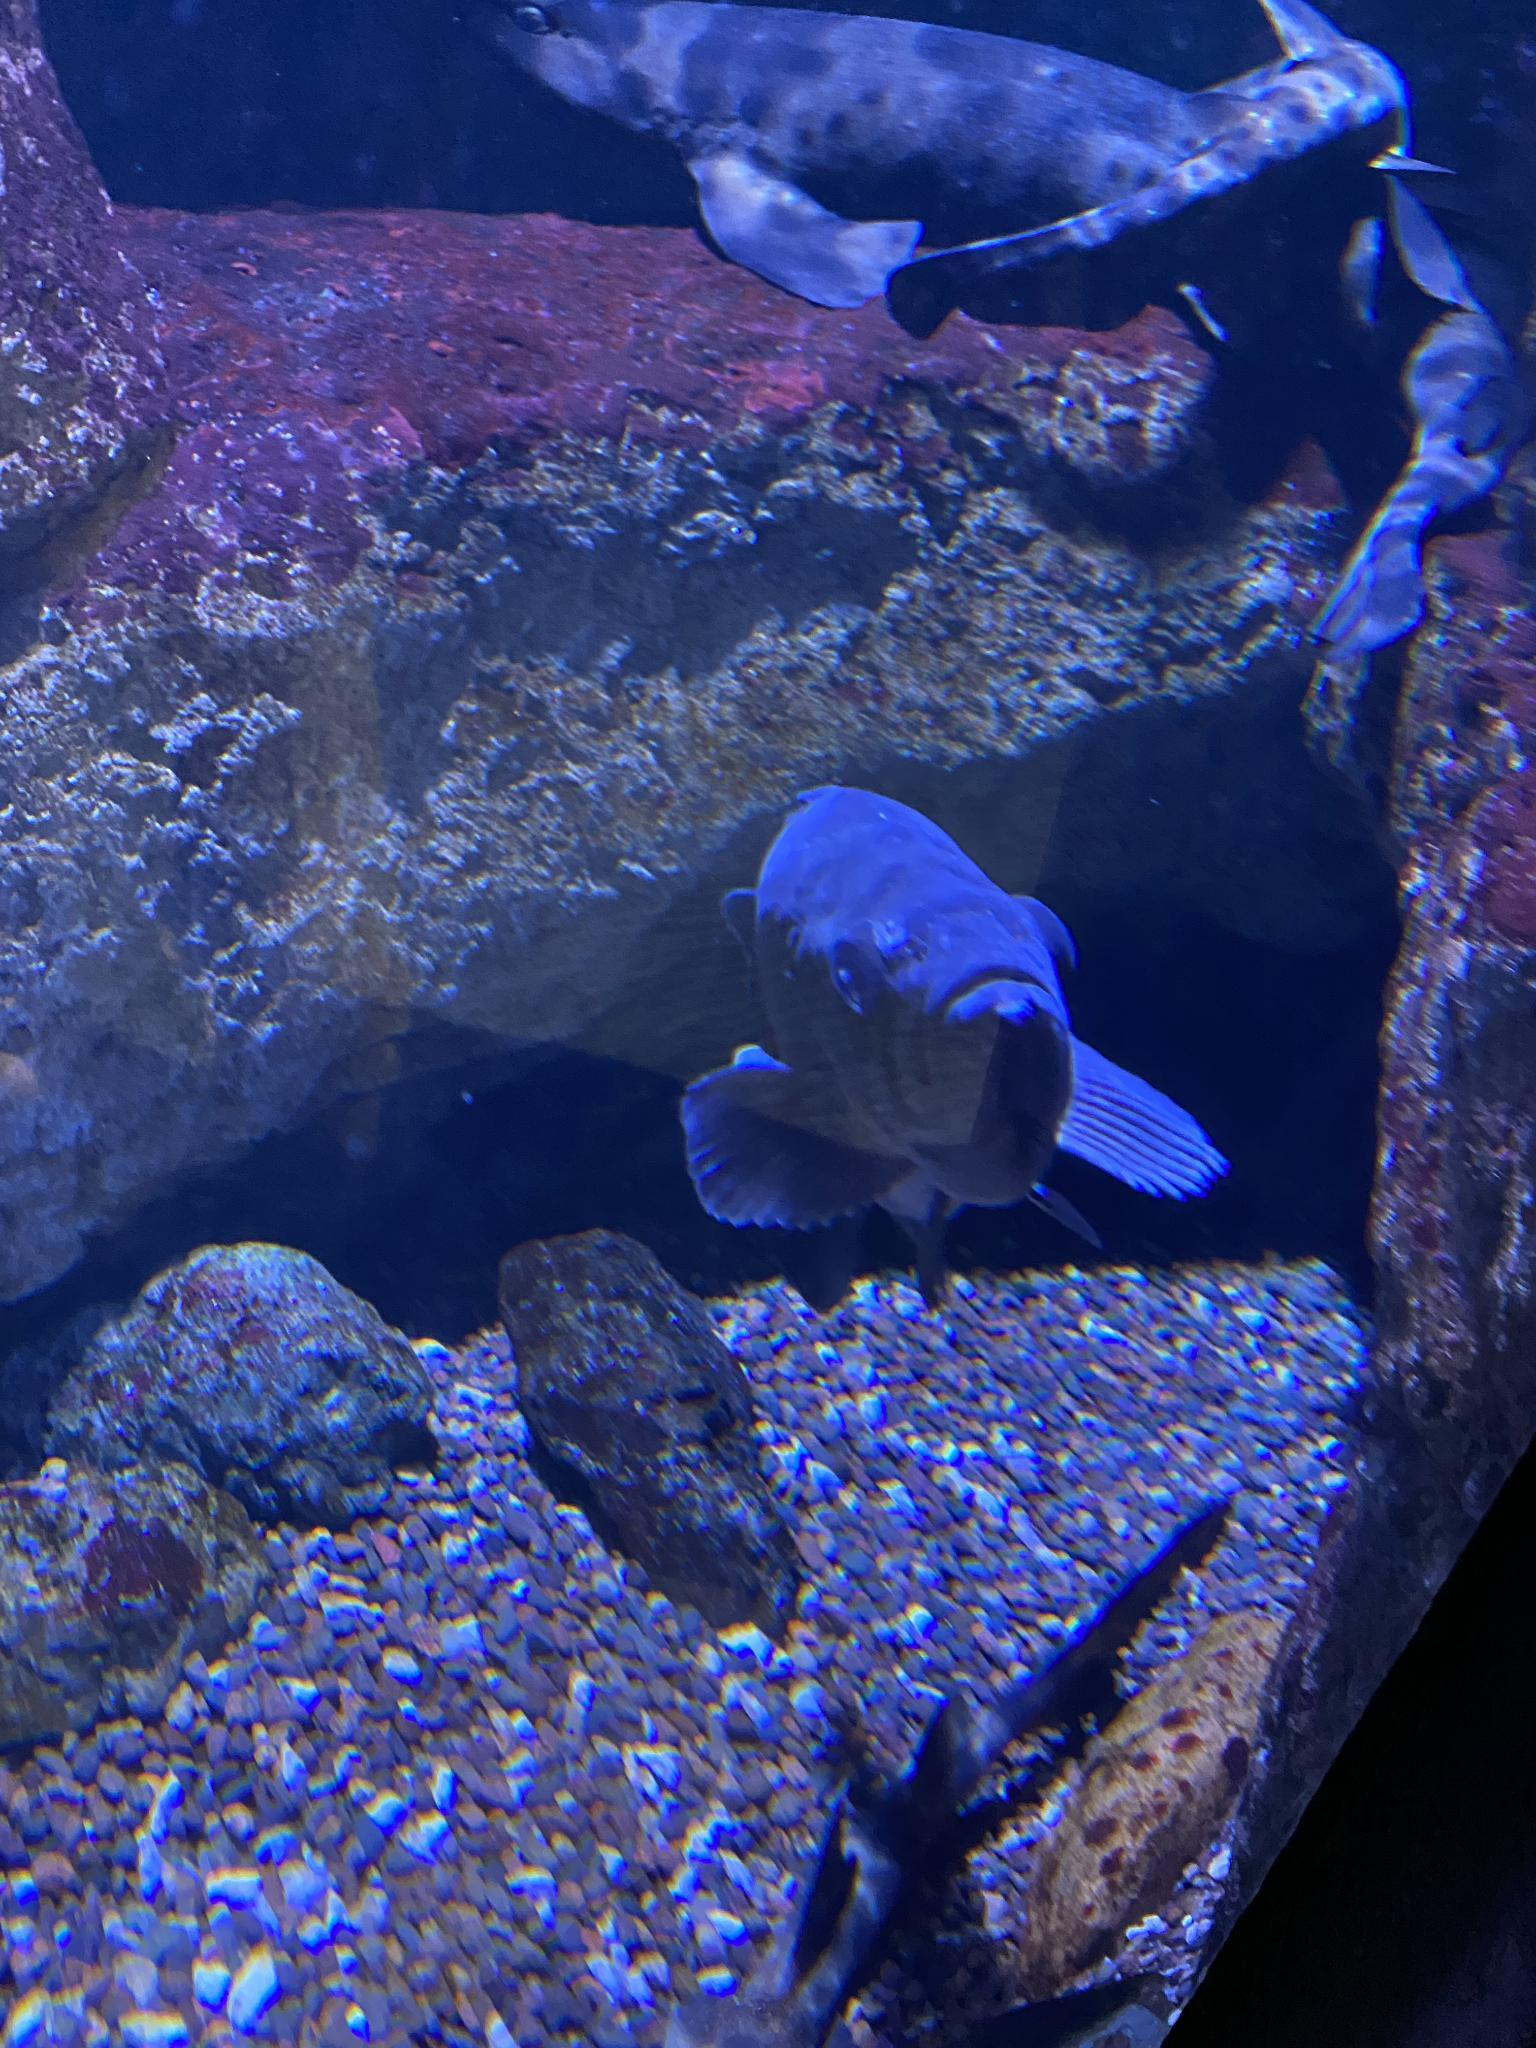fish: (686, 776, 1226, 1292)
shark: (487, 0, 1515, 651)
